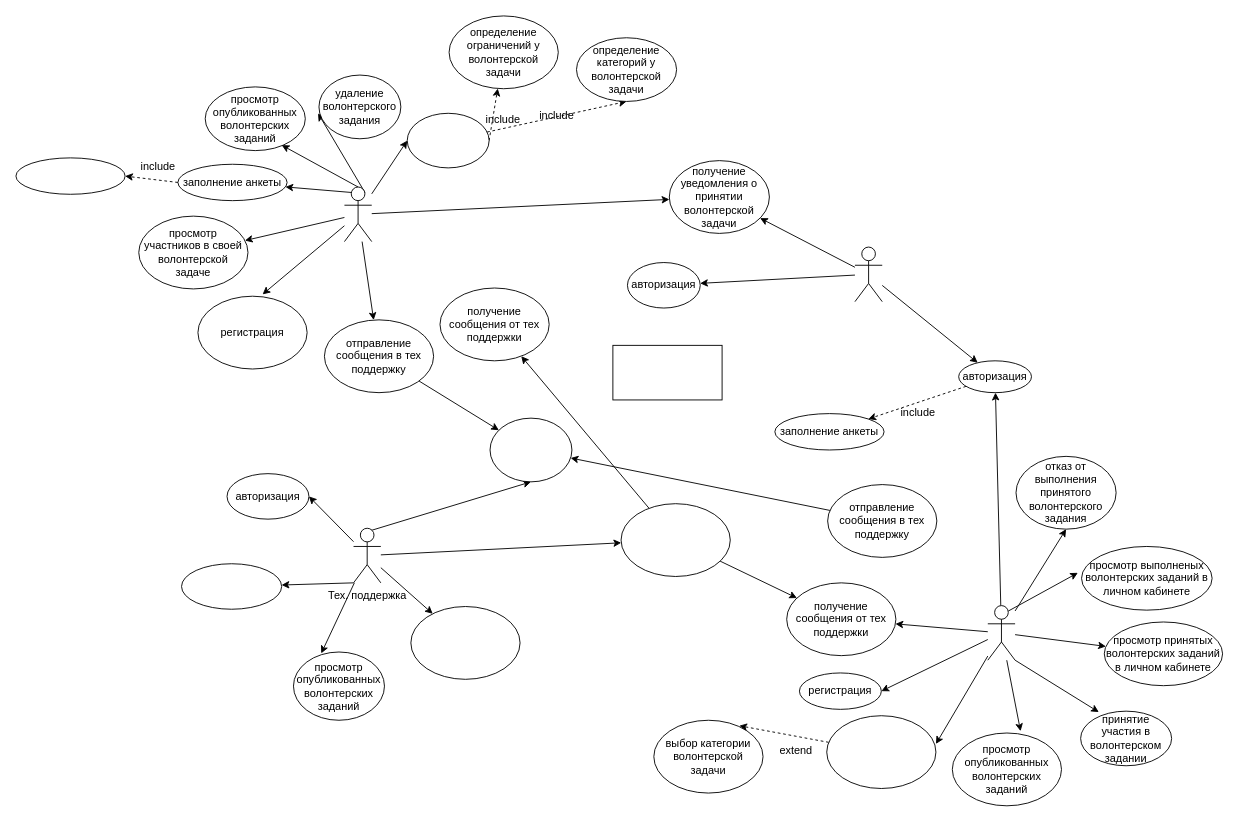
The diagram is 1239 pixels wide and 822 high, and some of its shapes have lost their labels. Here are the shapes that lost their labels. From the top down, the centre of each, then its label:
point 447,140: создание волонтерской задачи
point 70,175: загрузка файлов
point 358,214: Преподаватель
point 868,274: ИИ
point 667,372: ИС веб-приложения "Волонтерство"
point 530,449: Получение сообщения
point 675,539: Ответ
point 231,586: просмотр заполненных анкет
point 465,642: просмотр участников в волонтерской задаче
point 1001,632: Студент
point 881,752: настройка просмотра опубликованных волонтерских задач
